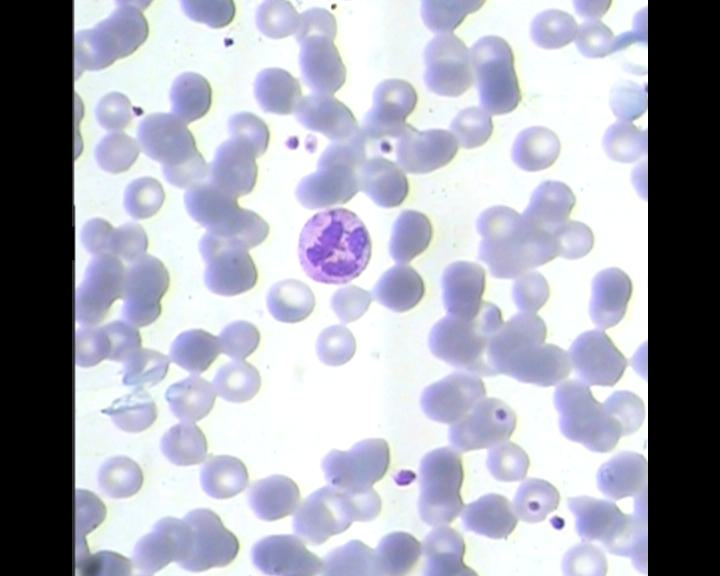neut: (290, 202, 379, 286)
